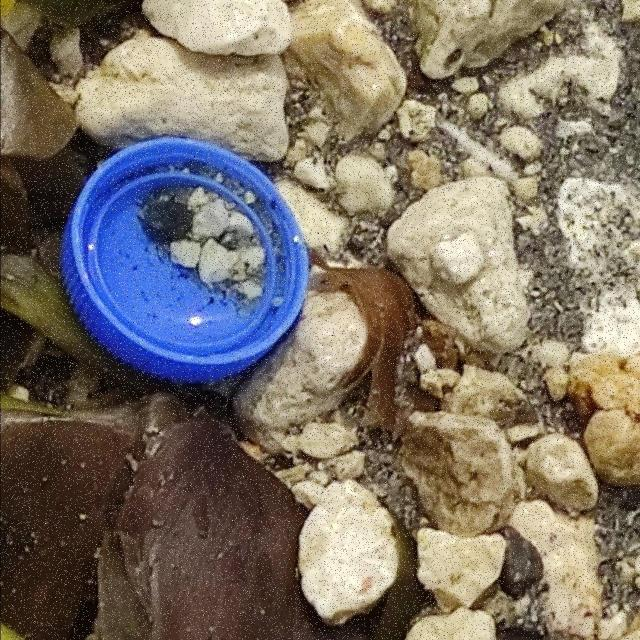plastic_waste: (61, 135, 312, 388)
